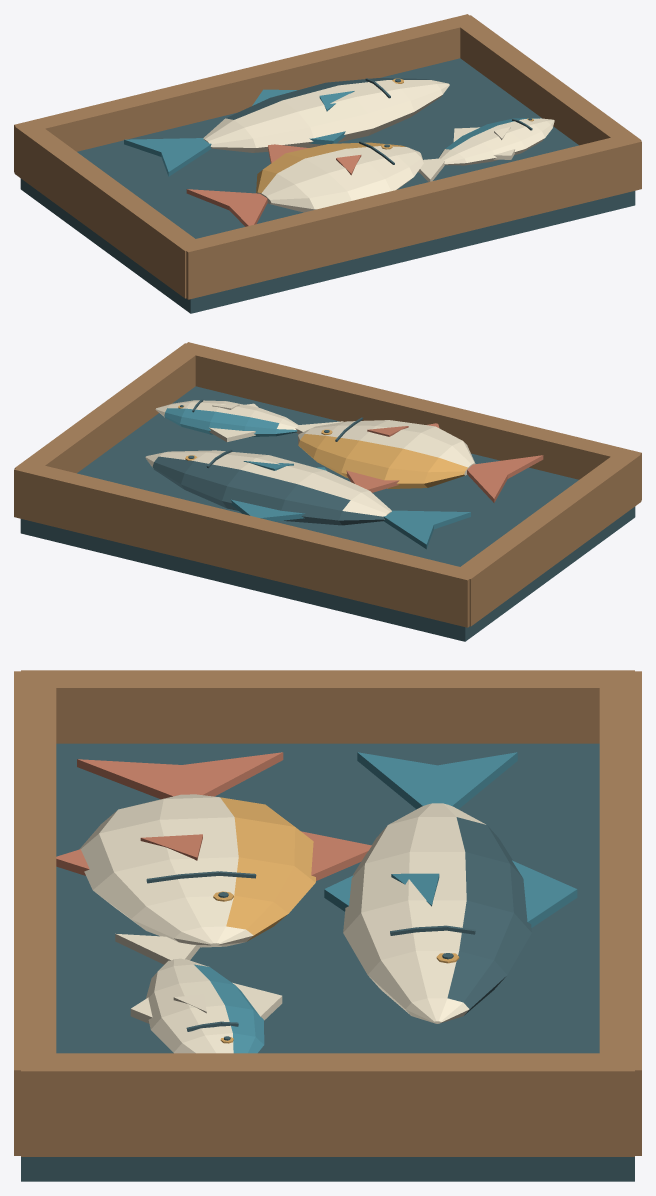
The model's file is AC_Fish_Display_Tray.glb.
The picture shows the model from 3 angles, top to bottom: view 1: azimuth 30°, elevation 25°; view 2: azimuth 150°, elevation 25°; view 3: azimuth 270°, elevation 25°; orthographic projection. The views are drawn at different scales.
Parts seen in each view (by area): view 1: AC_Fish_Display_Tray; view 2: AC_Fish_Display_Tray; view 3: AC_Fish_Display_Tray.
Boxes of the visible parts, x1,y1,x2,y2 form: AC_Fish_Display_Tray: [14, 14, 641, 313]; AC_Fish_Display_Tray: [14, 342, 641, 641]; AC_Fish_Display_Tray: [14, 670, 641, 1181].
Bounding box in the file's own units: 1 × 0.1546 × 0.665.
